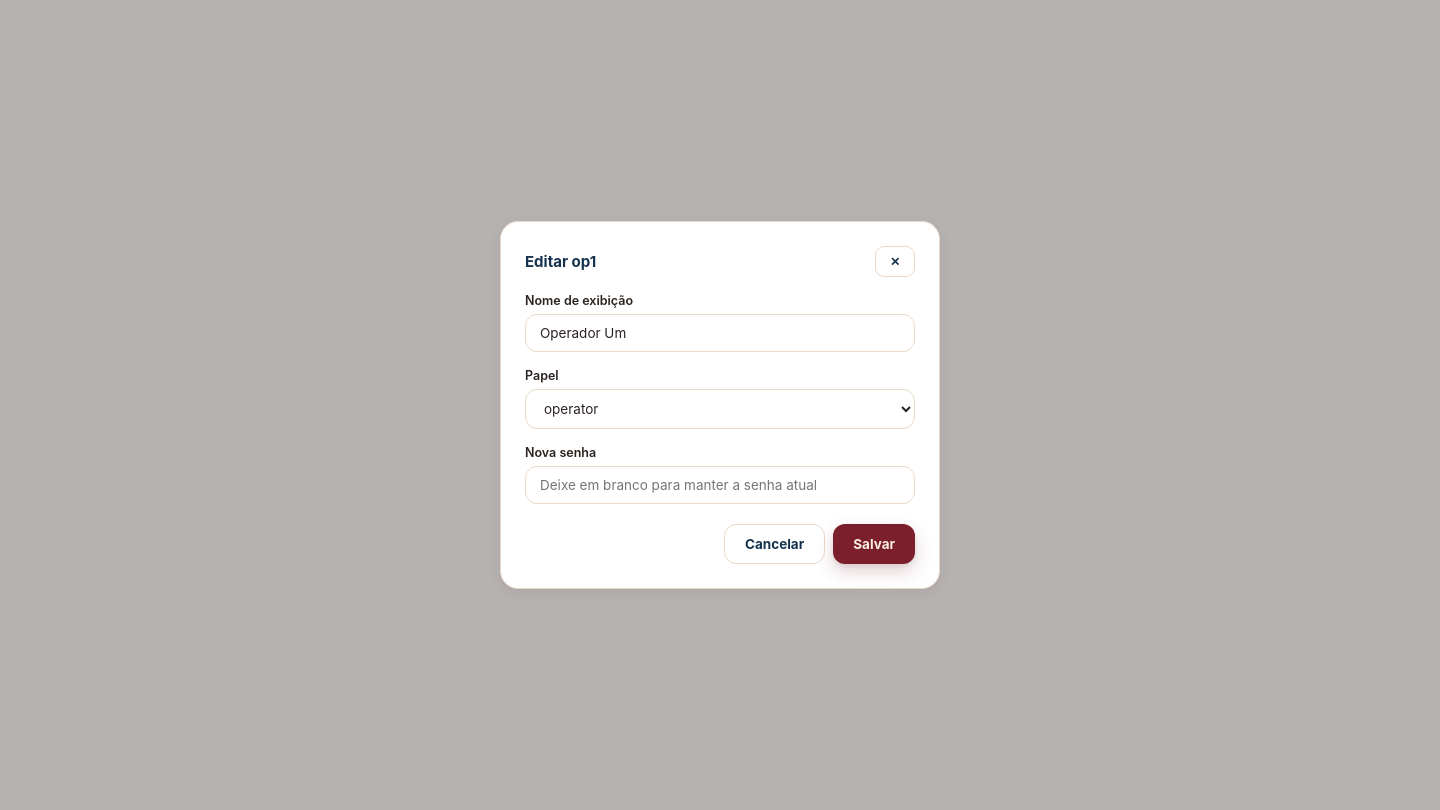
Test case: UserEditModal › mostra o erro de domínio retornado pelo backend
What coordinates should you click on to do the following:
click the button with test id "edit-user-submit"
I would click on:
 (874, 544)
Its box is [833,524,915,564].
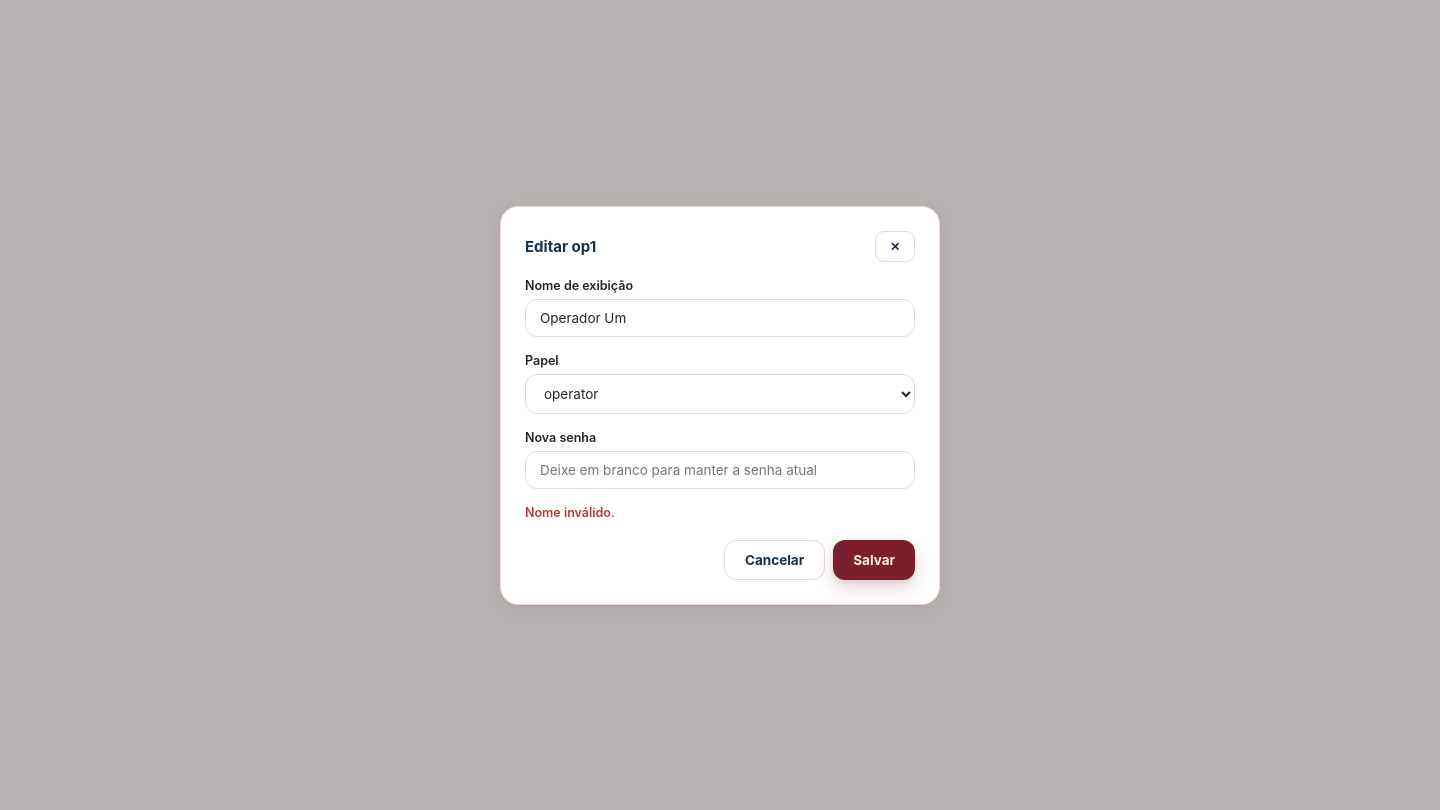
Expected: the text "Nome inválido." is shown, [525,504,615,520]
